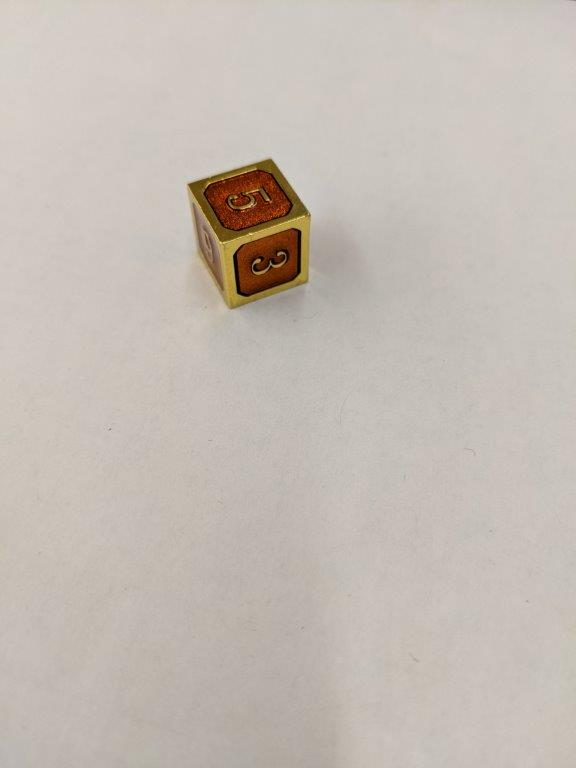d6-5: (186, 153, 312, 309)
